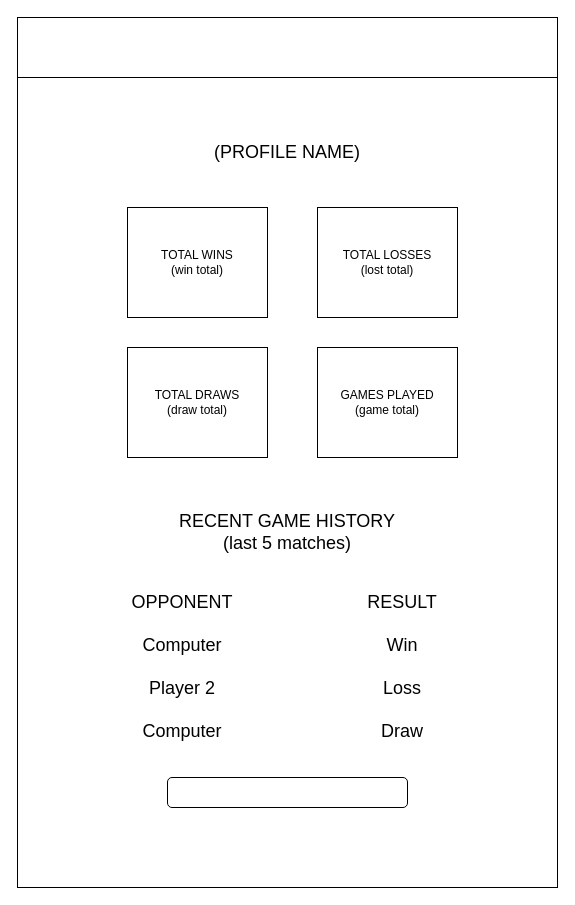
Some shapes in this 575 by 905 pixel diagram are drawn without their labels. Here are the shapes that lost their labels. From the top down, the centre of each, then its label:
the point at 287,47: (PLAYER) PROFILE
the point at 287,792: Main Menu
